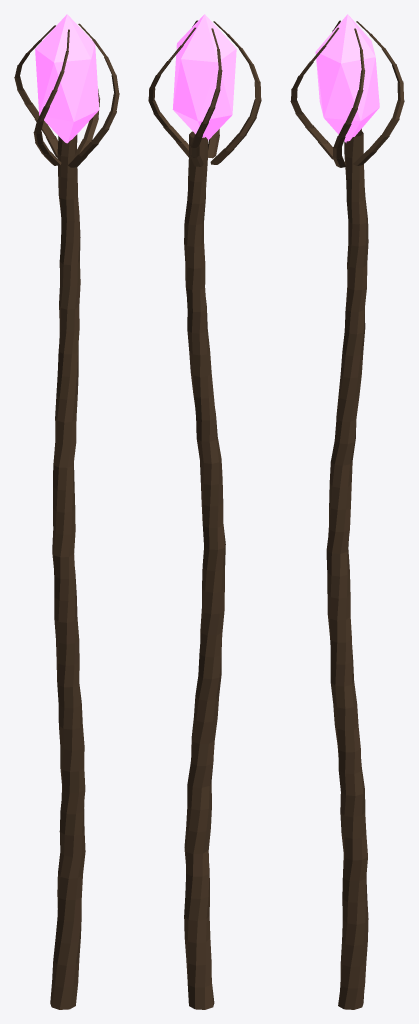
The model's file is Cajado_Roxo.glb.
3 views of the same model, side by side, from view 1: azimuth 30°, elevation 25°; view 2: azimuth 150°, elevation 25°; view 3: azimuth 330°, elevation 25° (orthographic).
Parts seen in each view (by area): view 1: Cabo, Cristal; view 2: Cabo, Cristal; view 3: Cabo, Cristal.
Boxes of the visible parts, x1,y1,x2,y2 form: Cabo: (14, 23, 119, 1009); Cristal: (35, 14, 99, 143); Cabo: (148, 20, 261, 1009); Cristal: (172, 14, 236, 140); Cabo: (290, 20, 404, 1009); Cristal: (315, 14, 379, 142).
Size of the model in its own units: 0.1646 by 1.82 by 0.1652.
